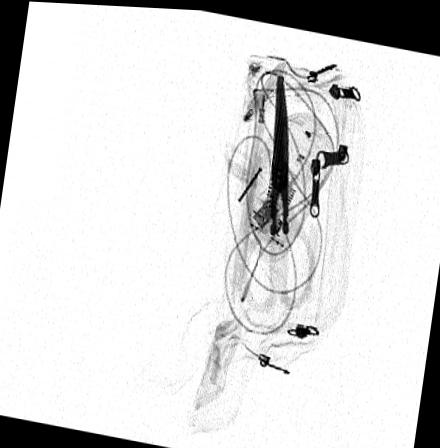Scissors: (235, 67, 317, 312)
